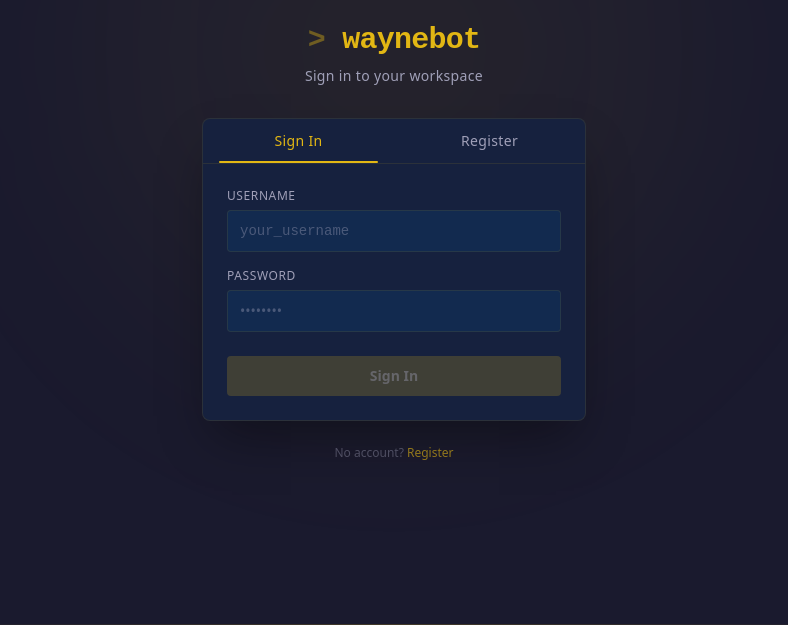
Test: LoginPage › shows username validation hint for invalid input
In the field labelled "Username": (394, 230) [227,210,561,252], type "no spaces!"
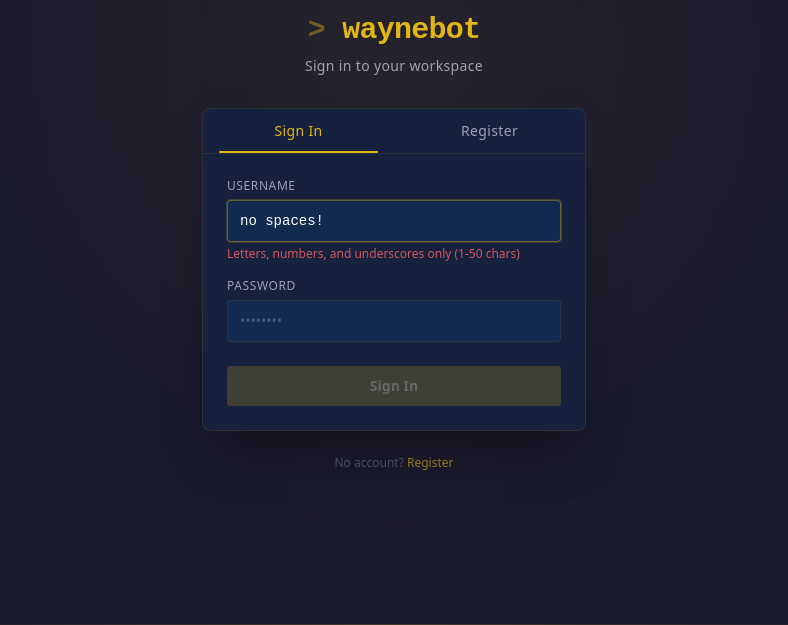
Result: the text "Letters, numbers, and underscores only (1-50 chars)" is shown at [227,246,561,262]
